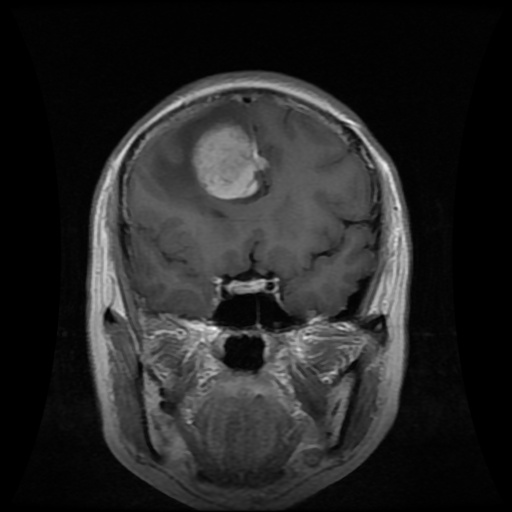meningioma: (191, 122, 267, 199)
